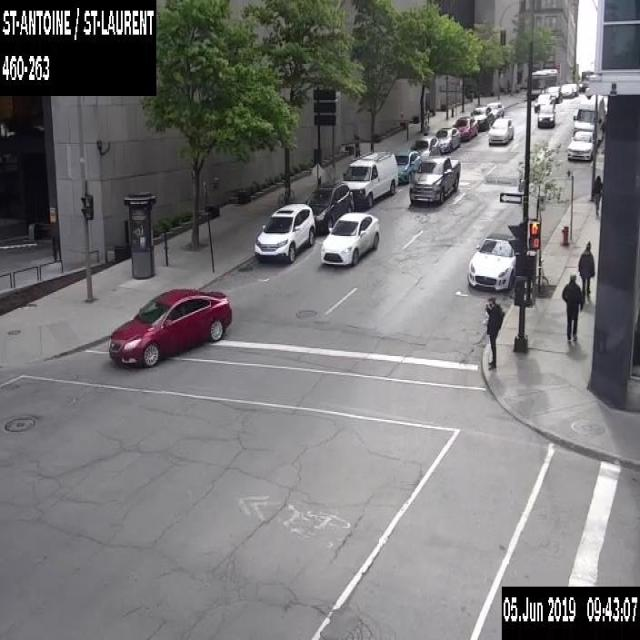bus: (530, 67, 558, 98)
pedestrian: (484, 294, 504, 370), (562, 272, 582, 342), (578, 239, 594, 301), (594, 174, 602, 214)
vehicle: (106, 285, 234, 368), (253, 202, 314, 262), (340, 150, 398, 207), (320, 211, 378, 265), (466, 230, 514, 290), (408, 154, 460, 203), (305, 181, 351, 232), (572, 94, 605, 138), (566, 129, 598, 160), (393, 149, 420, 182), (487, 117, 513, 144), (435, 126, 460, 152), (452, 115, 477, 140), (411, 134, 439, 156), (470, 105, 493, 129), (536, 103, 556, 126), (533, 92, 555, 111), (486, 101, 504, 117), (547, 85, 561, 102), (560, 83, 573, 96), (566, 82, 579, 95), (578, 82, 588, 91)
